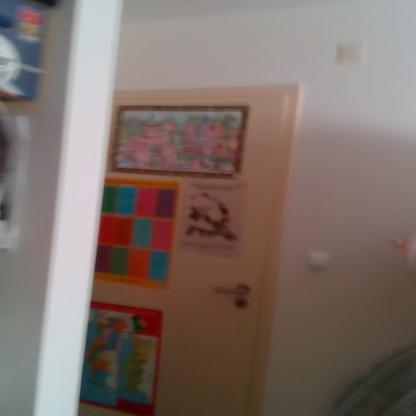door: (94, 92, 277, 416)
lever: (211, 286, 250, 296)
